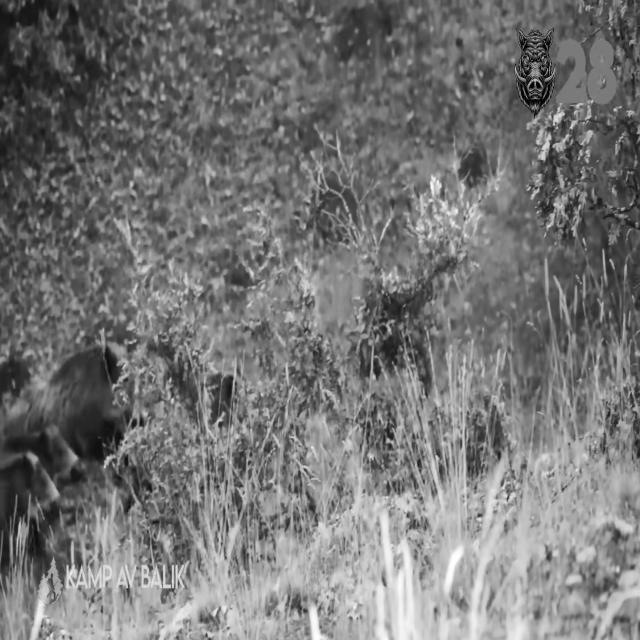boar: (9, 343, 128, 458), (211, 373, 239, 425)
